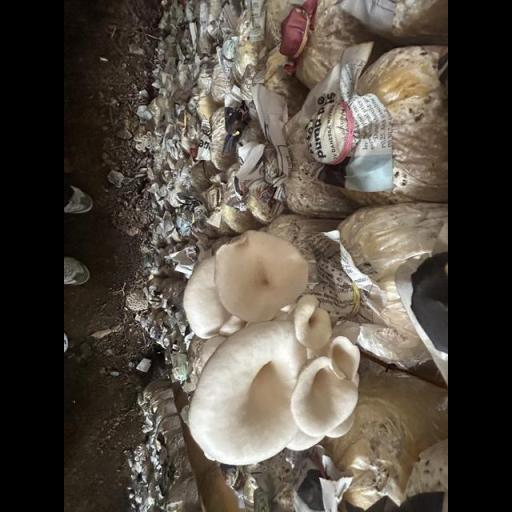White Oyster Mushroom: (180, 230, 364, 464)
